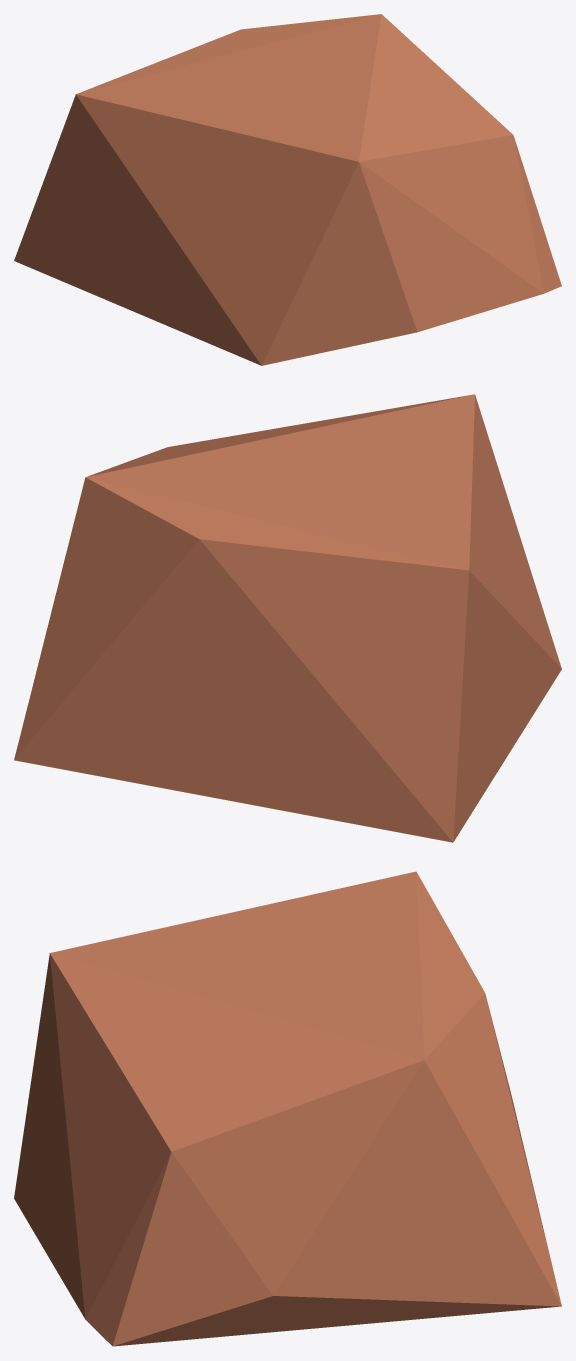
File: west_rock09.FBX
The picture shows the model from 3 angles, top to bottom: view 1: azimuth 30°, elevation 25°; view 2: azimuth 150°, elevation 25°; view 3: azimuth 270°, elevation 25°; orthographic projection. The views are drawn at different scales.
Parts seen in each view (by area): view 1: west_rock09; view 2: west_rock09; view 3: west_rock09.
Part boxes in pixels (box(x1,y1,x2,y2)): west_rock09: box(14, 14, 561, 365); west_rock09: box(14, 394, 561, 842); west_rock09: box(14, 871, 561, 1346).
Bounding box in the file's own units: 822 × 397 × 783.
